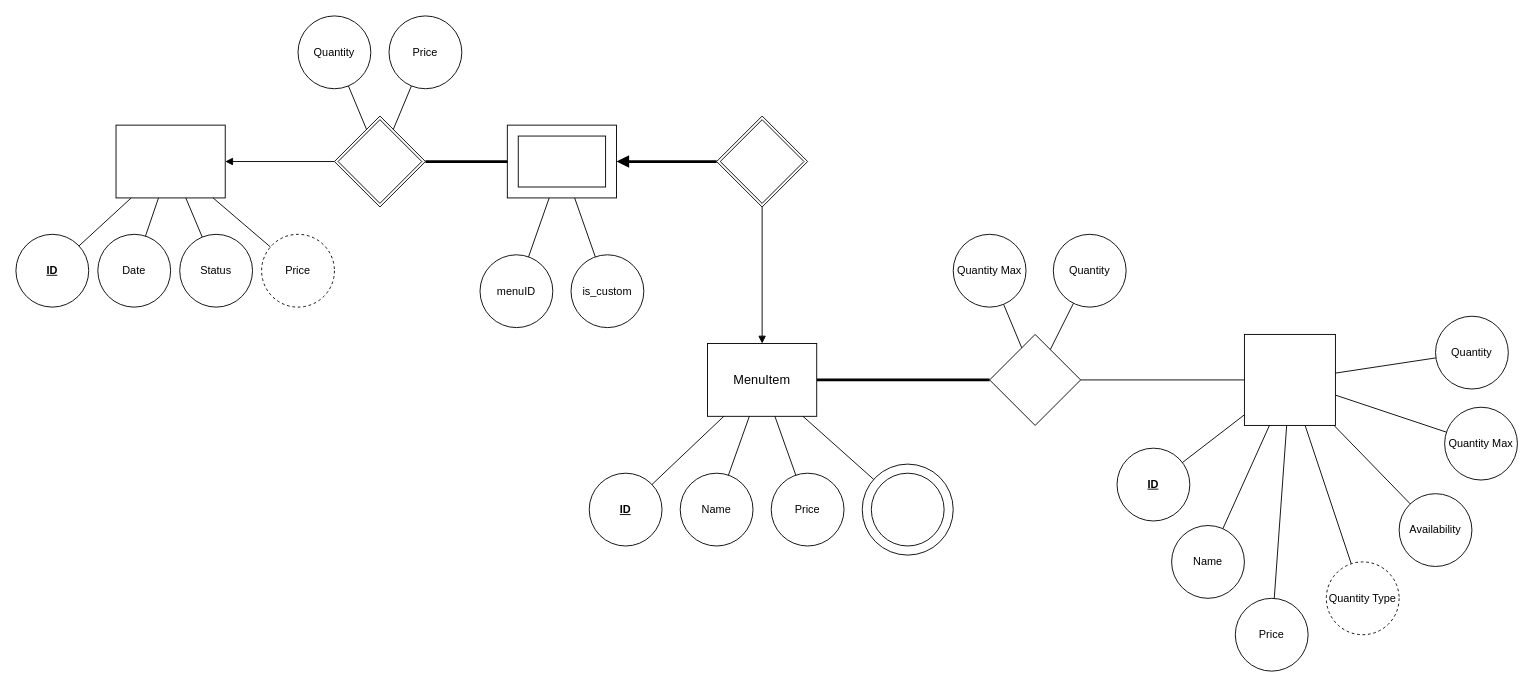
Image size: 1533x687. Some labels were removed from this diagram. The shapes that lost their labels are listed below. From the top down, each one's centre as x and y in pixels, then its label:
At pixel 170 161: "Order".
At pixel 379 161: "Has".
At pixel 561 161: "Order Item".
At pixel 762 161: "Is Linked To".
At pixel 1035 379: "Consists Of".
At pixel 1289 379: "Ingredient".
At pixel 907 509: "Category".
